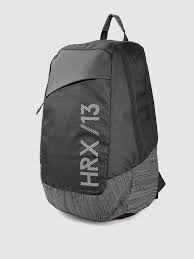backpack: (36, 13, 165, 221)
